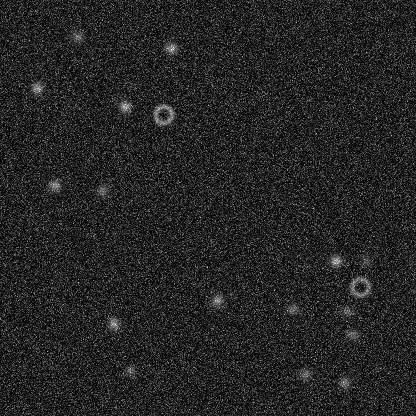Ring: (151, 102, 175, 126), (348, 274, 372, 298)
Spot: (357, 252, 373, 268), (338, 303, 354, 319), (297, 366, 313, 382), (163, 40, 179, 56), (69, 28, 85, 44), (124, 76, 140, 92), (29, 79, 45, 95), (122, 362, 138, 378), (336, 374, 352, 390), (46, 177, 62, 193), (328, 252, 344, 268), (94, 182, 110, 198), (116, 98, 132, 114), (284, 301, 300, 317), (209, 292, 225, 308), (31, 59, 47, 75), (105, 315, 121, 331), (344, 326, 360, 342)
